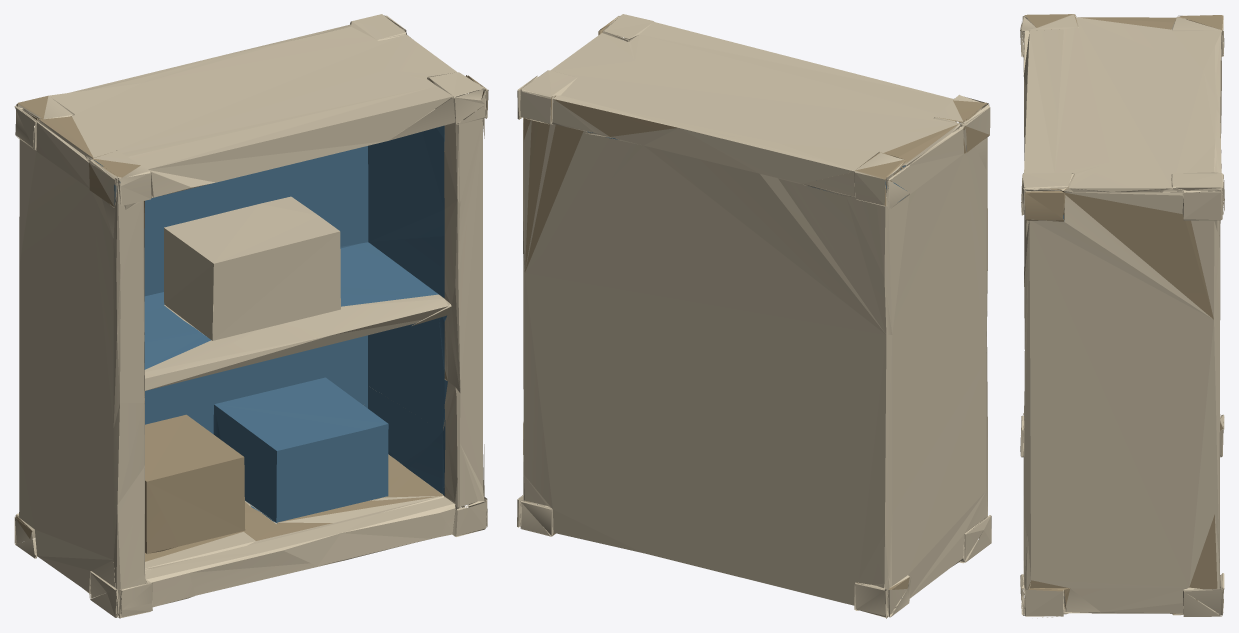
The model's file is lab-specimen-cabinet.glb.
3 renders of one model, left to right at view 1: azimuth 30°, elevation 25°; view 2: azimuth 150°, elevation 25°; view 3: azimuth 270°, elevation 25°, orthographic. The views are drawn at different scales.
Parts seen in each view (by area): view 1: paper-room-decoration; view 2: paper-room-decoration; view 3: paper-room-decoration.
Part boxes in pixels (<box>): paper-room-decoration: <box>14,14,488,618</box>; paper-room-decoration: <box>517,14,991,618</box>; paper-room-decoration: <box>1020,14,1224,618</box>.
Size of the model in its own units: 1.1 by 1.24 by 0.5346.
